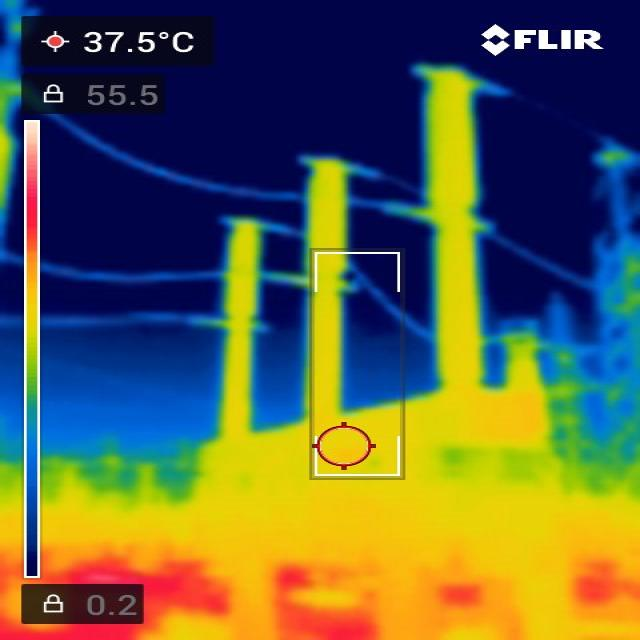Zona_Atenco: (382, 569, 517, 639)
Zona_Critica: (276, 568, 380, 639)
